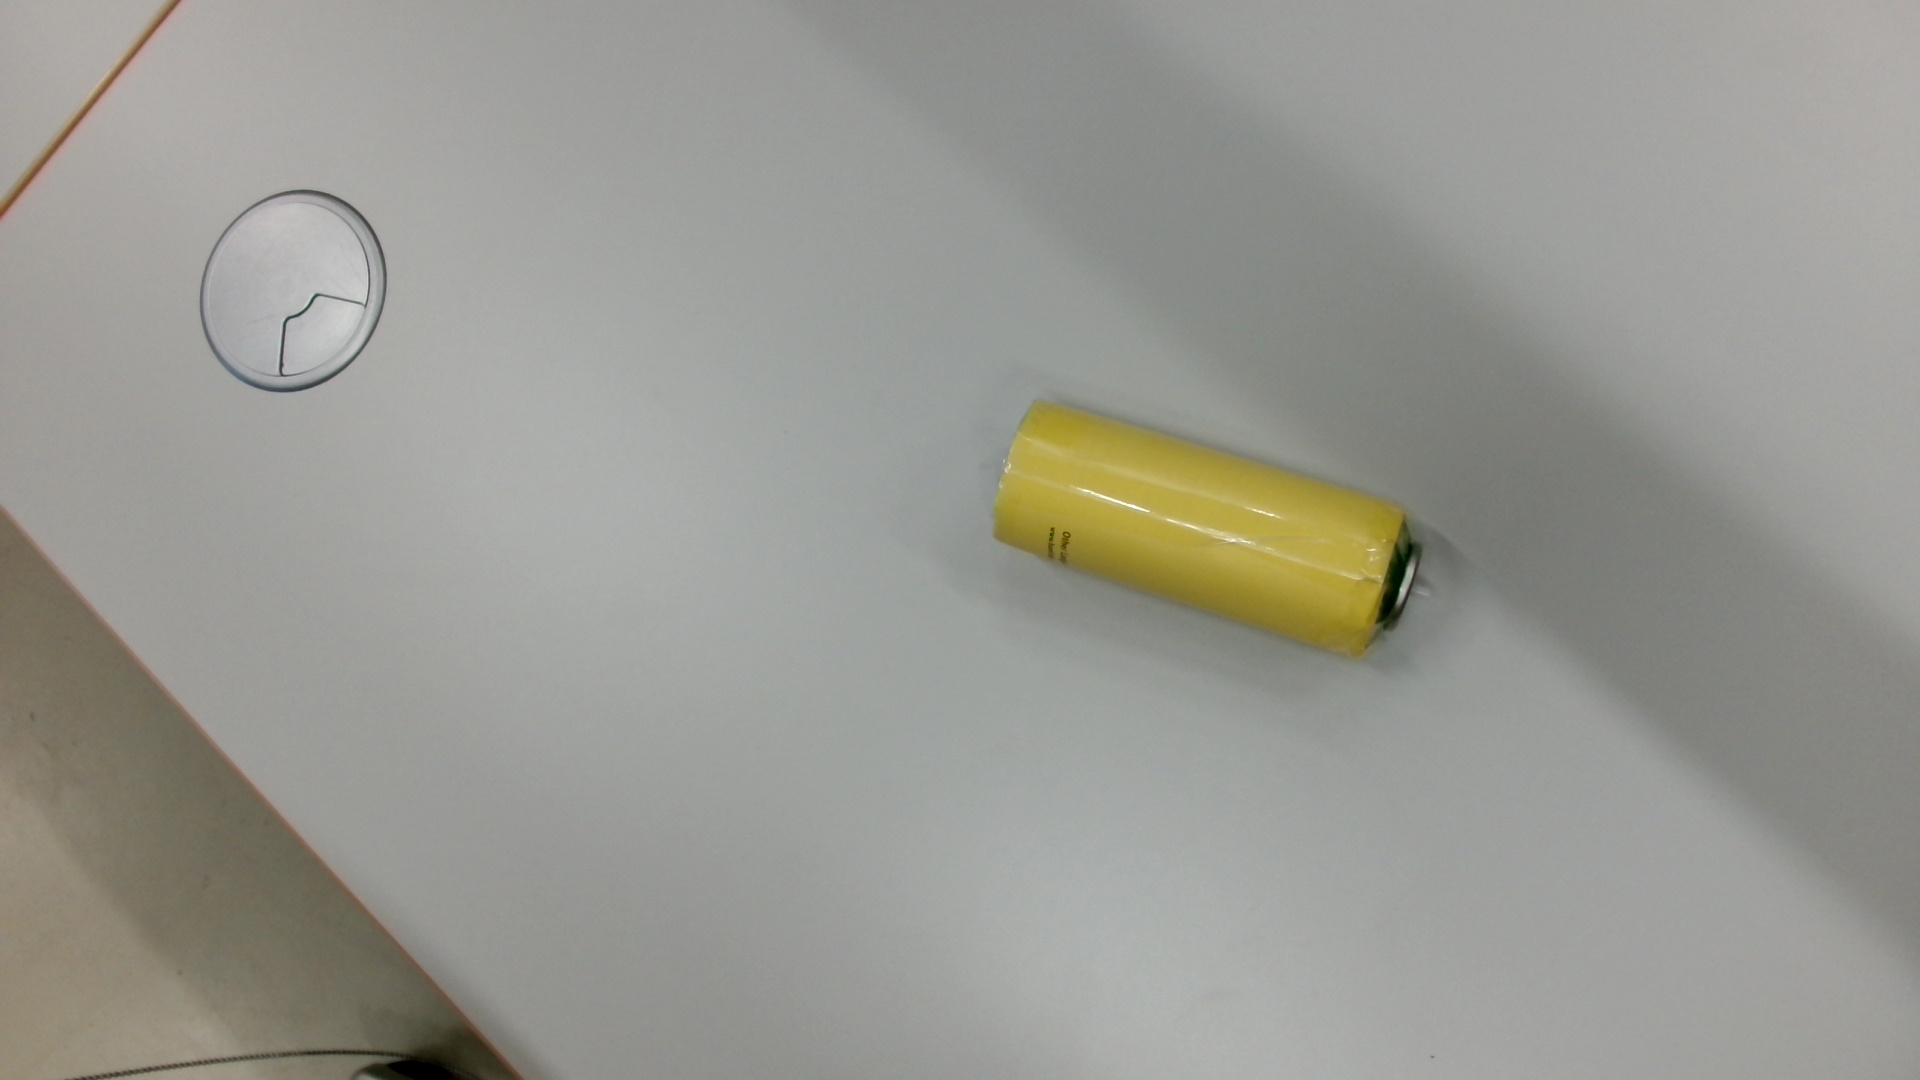Cylinder: (978, 381, 1449, 675)
